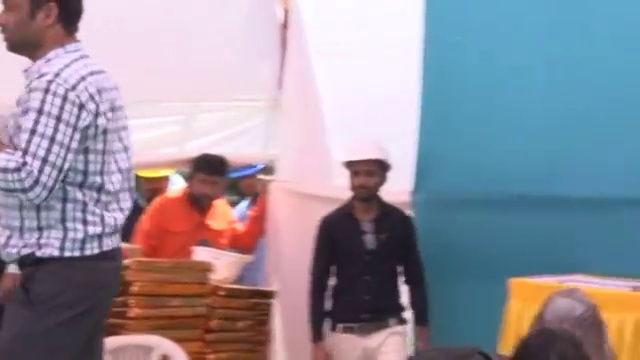helmet: (185, 245, 257, 288), (341, 137, 394, 172), (130, 161, 176, 180), (227, 159, 267, 180)
helmet_off: (515, 290, 615, 357), (0, 0, 85, 64), (178, 153, 231, 211)
helmet_on: (342, 137, 392, 210), (130, 159, 176, 204), (227, 159, 268, 202)
person: (0, 0, 130, 352), (308, 133, 425, 360), (131, 156, 268, 281)
